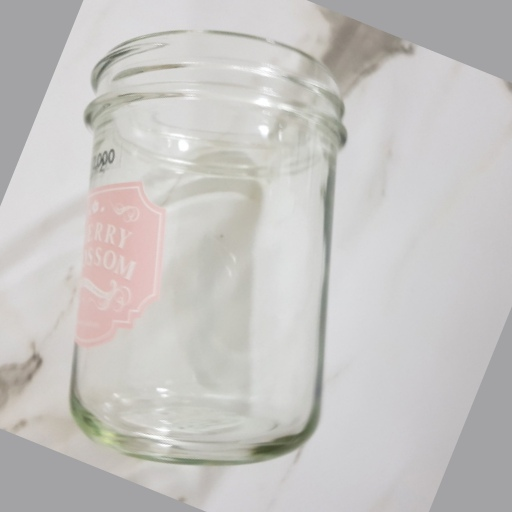Glass_5: (71, 34, 347, 465)
